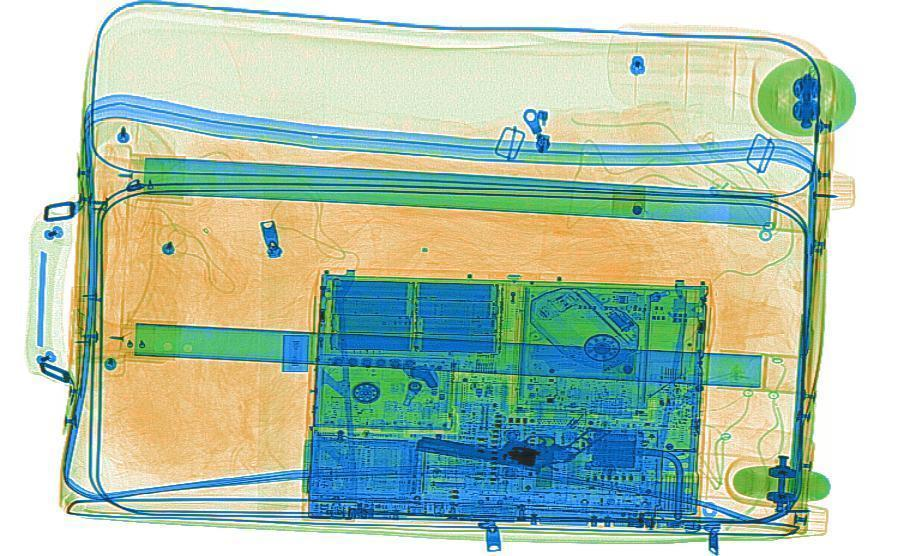Gun: (410, 401, 610, 474)
